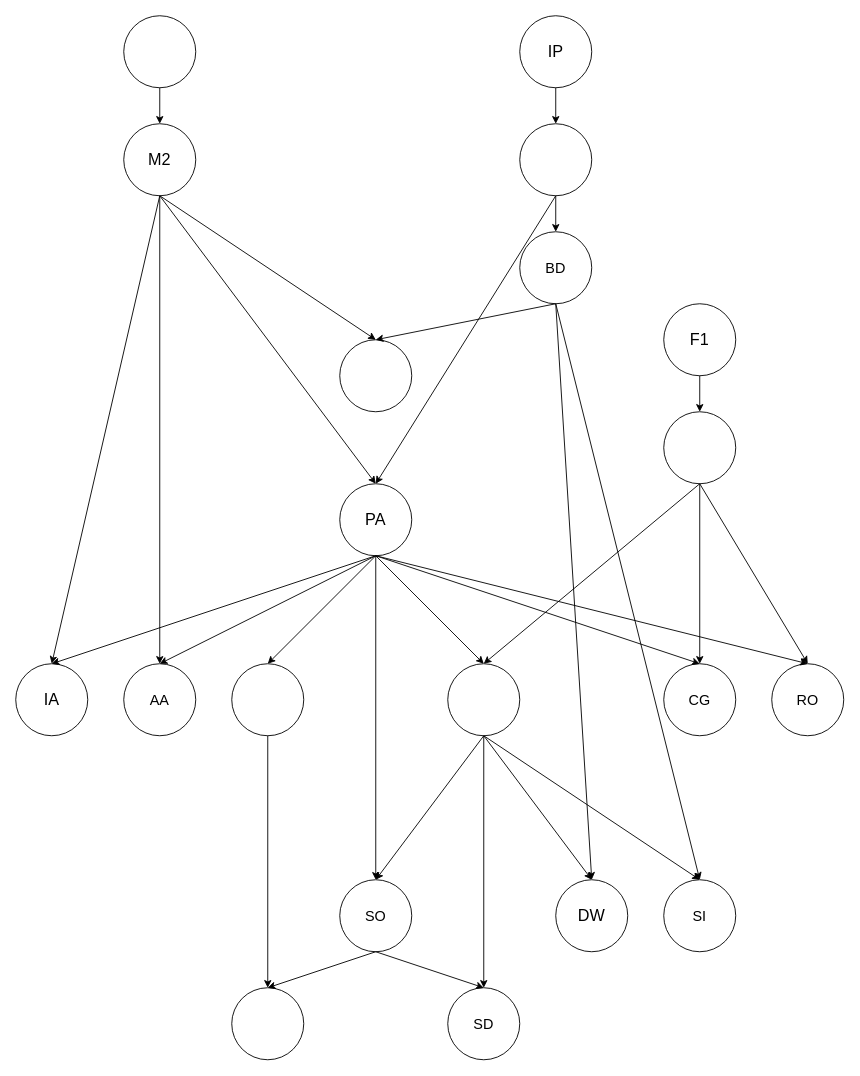
This 860x1076 diagram has some shape labels left out. The centre of each missing label's shape, as x and y in pixels:
BDD: (375,375)
CS: (267,1023)
ED: (555,159)
F2: (699,447)
IS: (267,699)
MI: (159,51)
RC: (483,699)
